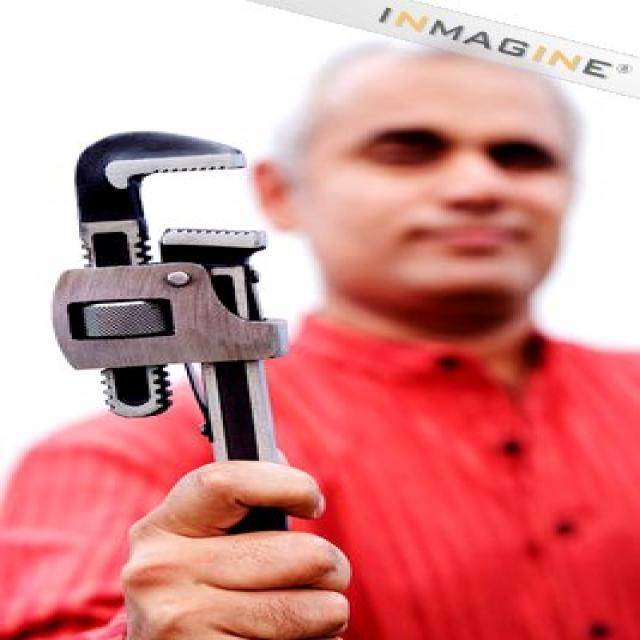wrench: (40, 119, 306, 563)
